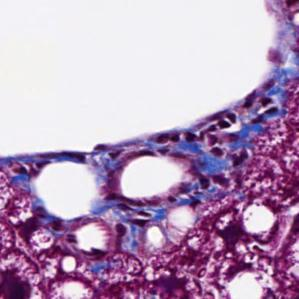inflammation: (194, 115, 246, 152), (188, 169, 234, 209), (109, 201, 159, 237), (244, 89, 282, 127)
